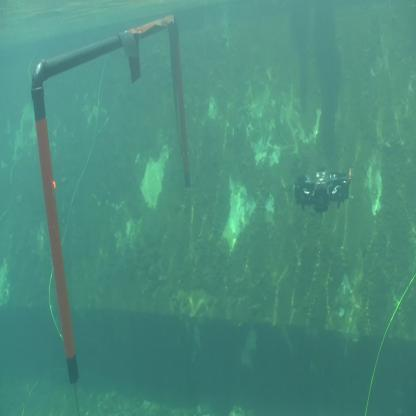gate: (30, 8, 192, 384)
